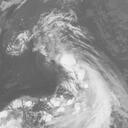cyclone: (44, 33, 96, 89)
